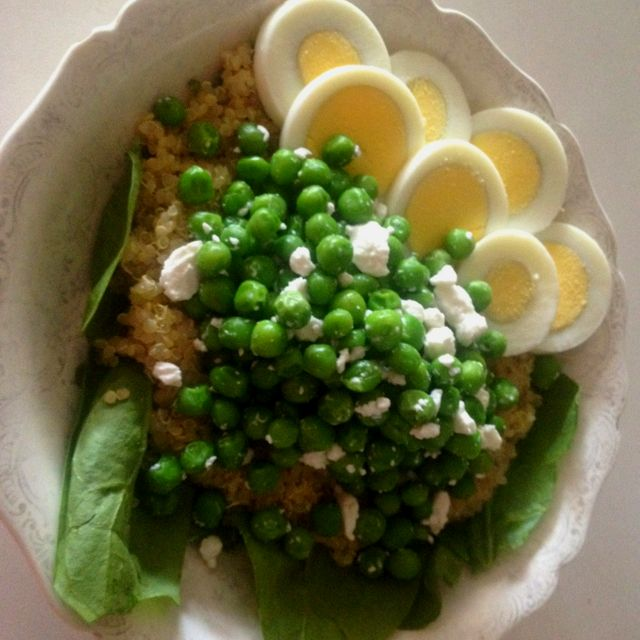boiled peas: (179, 242, 472, 464)
fried egg: (300, 16, 537, 208)
